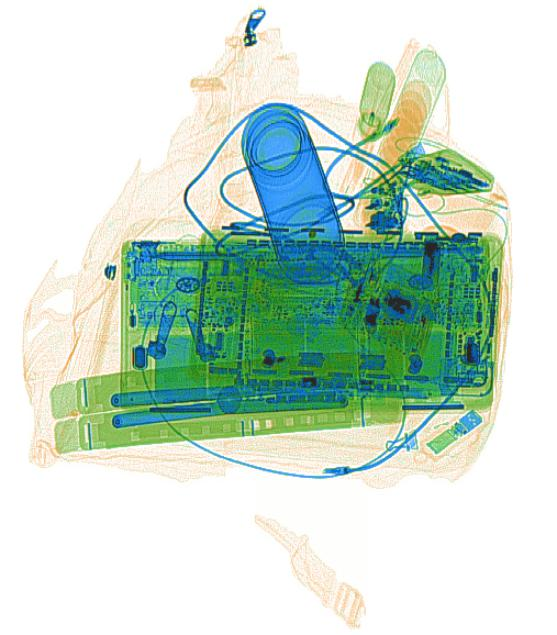USBFlashDisk: (426, 410, 482, 456)
